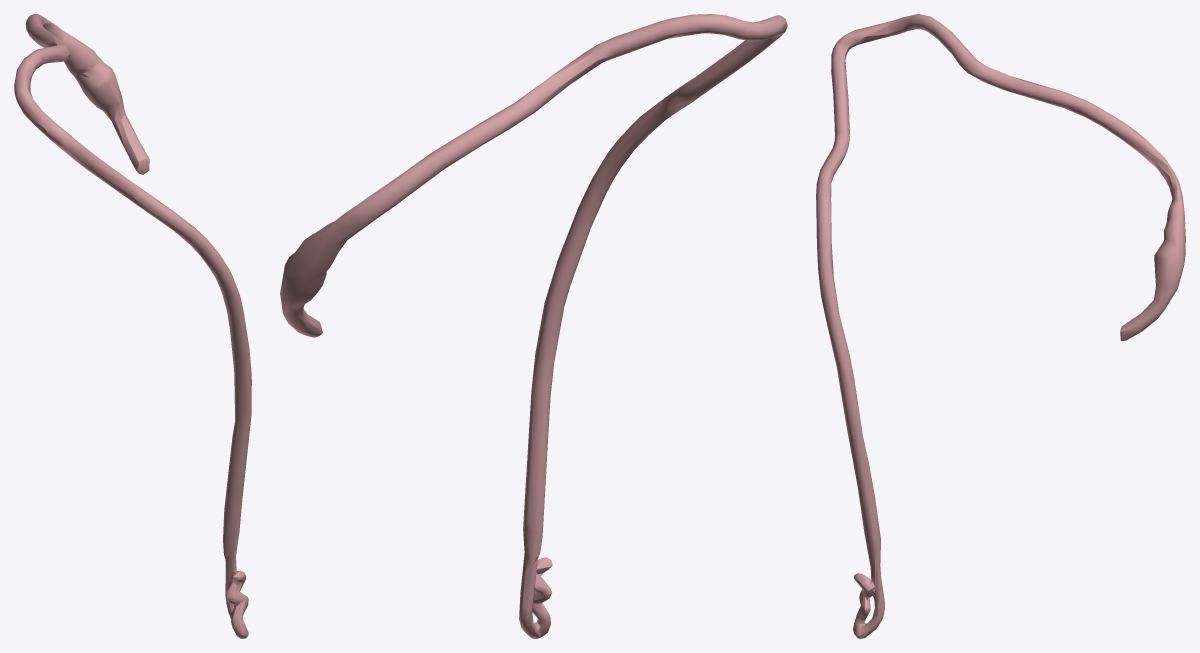
File: fma19235.glb
The picture shows the model from 3 angles, left to right: view 1: azimuth 30°, elevation 25°; view 2: azimuth 150°, elevation 25°; view 3: azimuth 270°, elevation 25°; orthographic projection. The views are drawn at different scales.
Parts seen in each view (by area): view 1: FMA19235; view 2: FMA19235; view 3: FMA19235.
Boxes of the visible parts, x1,y1,x2,y2 form: FMA19235: (14, 14, 251, 638); FMA19235: (280, 14, 787, 638); FMA19235: (816, 14, 1185, 638).
Bounding box in the file's own units: 0.0759 × 0.1665 × 0.1028.
